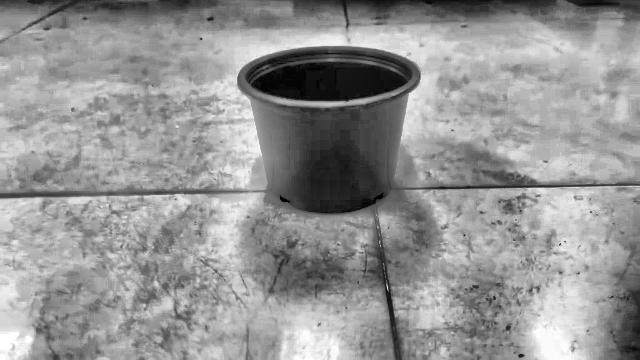pot: (238, 47, 419, 213)
